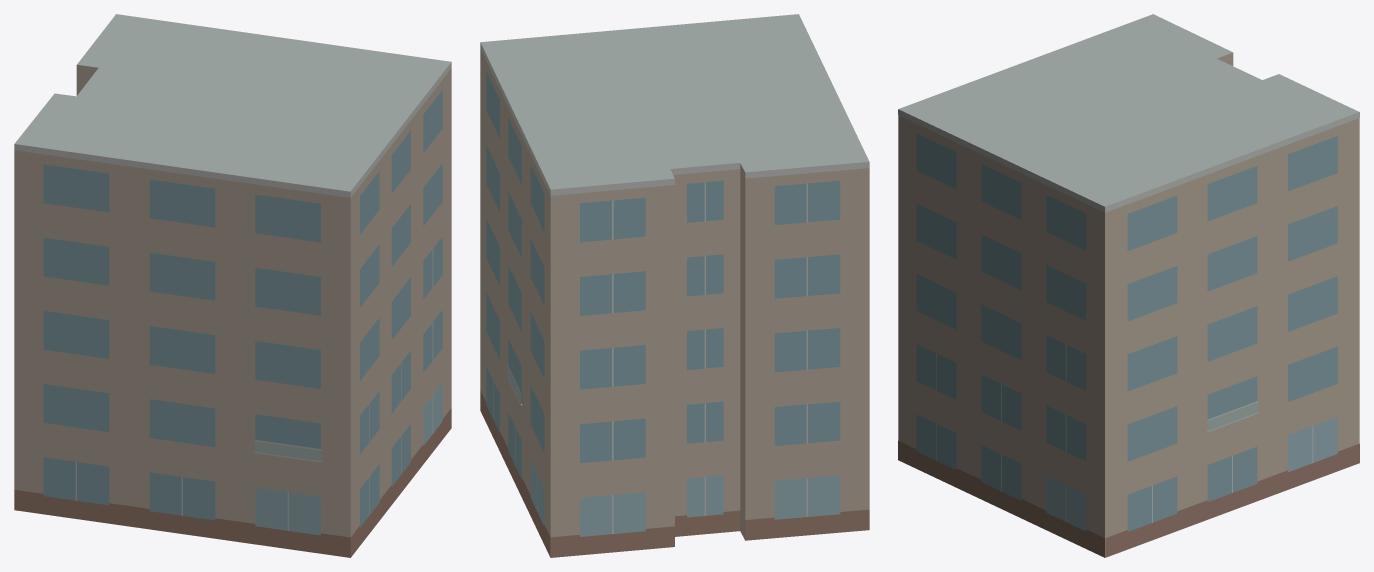
The model's file is survey-upis-32850330.glb.
3 views of the same model, side by side, from view 1: azimuth 30°, elevation 25°; view 2: azimuth 150°, elevation 25°; view 3: azimuth 270°, elevation 25° (orthographic). The views are drawn at different scales.
Visible parts, largest first — view 1: survey-upis-32850330.tmp; view 2: survey-upis-32850330.tmp; view 3: survey-upis-32850330.tmp.
Boxes of the visible parts, box(x1,y1,x2,y2) form: survey-upis-32850330.tmp: box(14, 14, 451, 557); survey-upis-32850330.tmp: box(480, 14, 869, 557); survey-upis-32850330.tmp: box(898, 14, 1359, 557).
Bounding box in the file's own units: 16.97 × 14.4 × 17.16.
